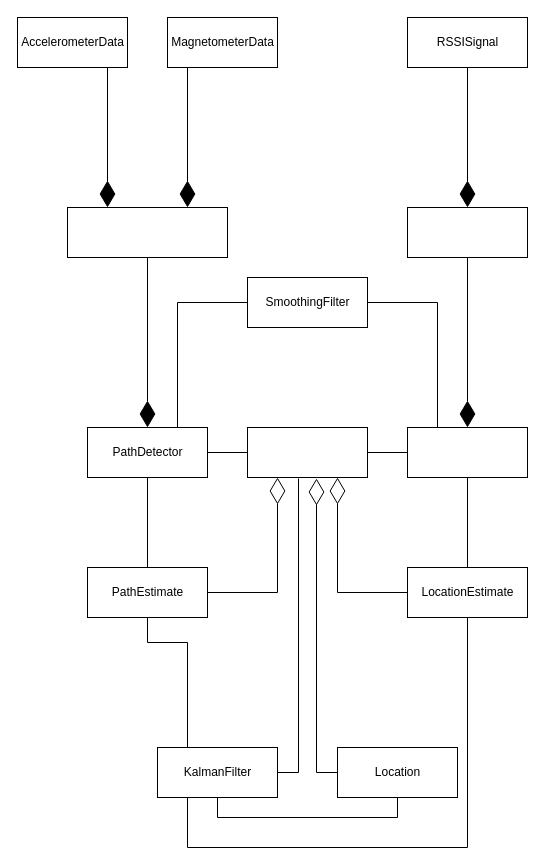
Image size: 545x866. Some labels were removed from this diagram. Here are the shapes that lost their labels. From the top down, the centre of each, then its label:
At (147,232): "DeadReckoningPacket".
At (467,232): "BluetoothPacket".
At (307,452): "BluetoothApp".
At (467,452): "Trilaterator".
